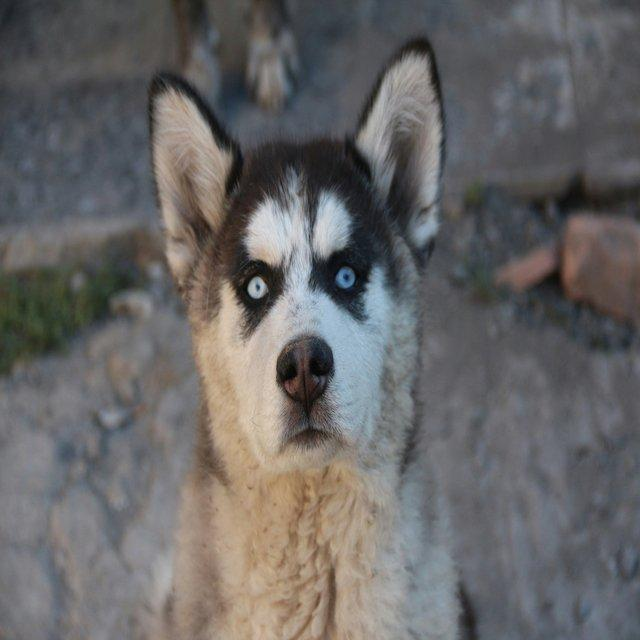husky: (143, 35, 466, 638)
